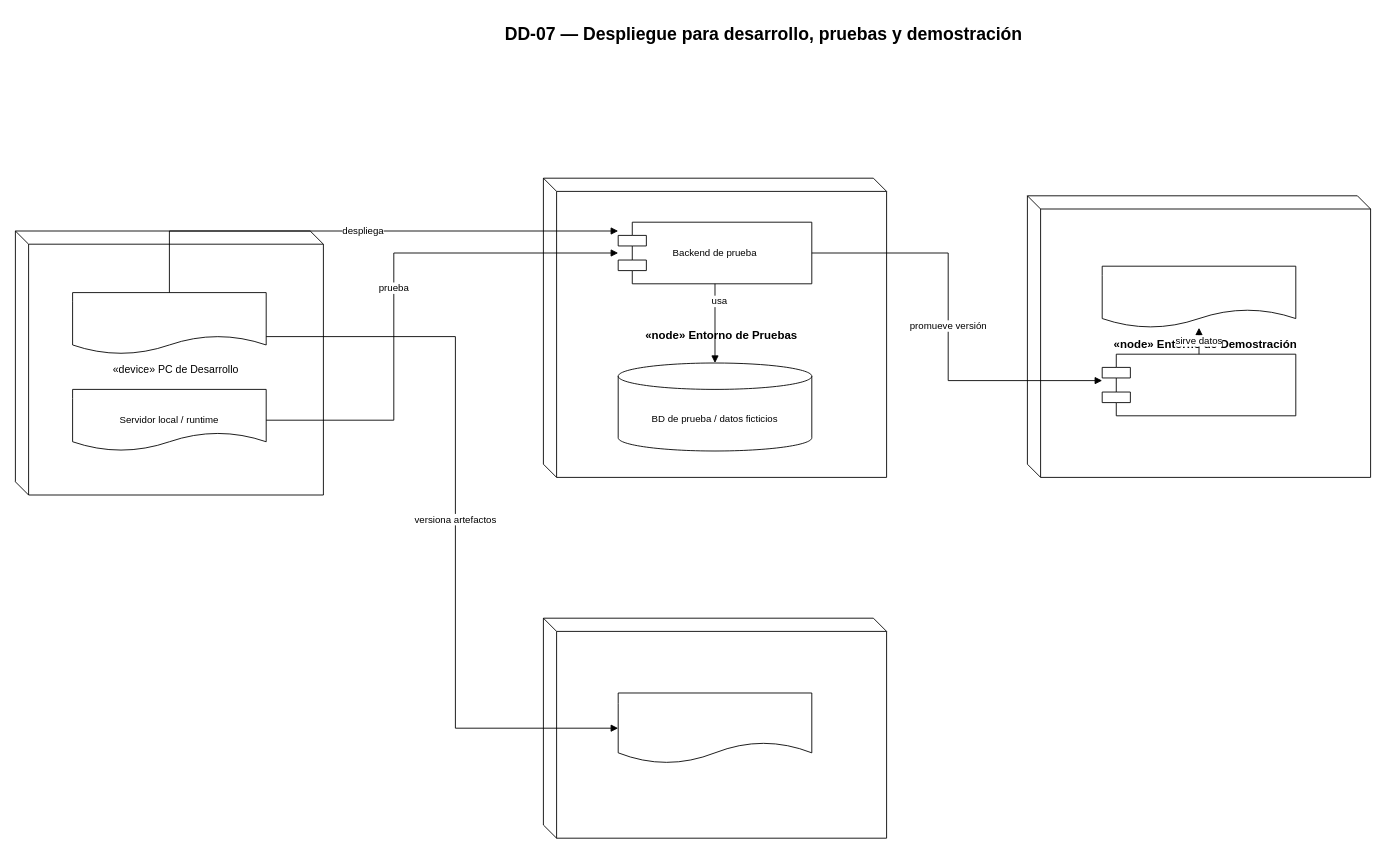
Image size: 1395x854. Some labels were removed from this diagram. Here are the shapes that lost their labels. From the top down, the centre of each, then its label:
At (x=1198, y=296): "Cliente web desplegado".
At (x=169, y=323): "Repositorio Git / código fuente".
At (x=1198, y=384): "API demo".
At (x=714, y=727): "ERS / diagramas / scripts".
